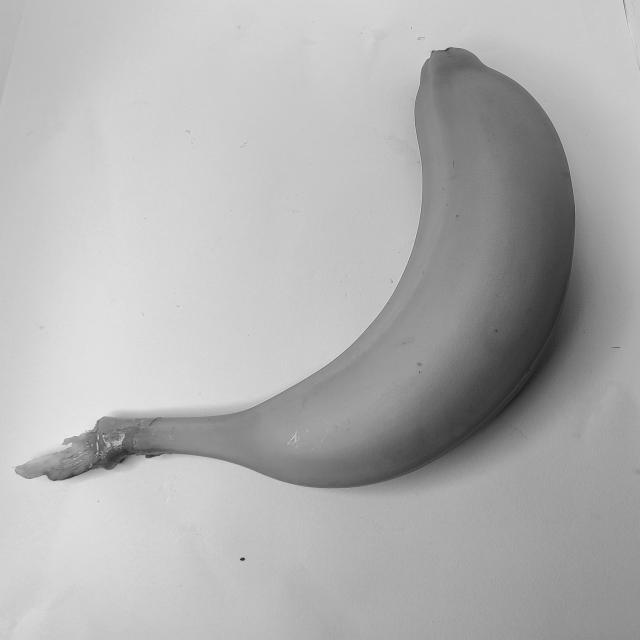Raw: (6, 10, 608, 525)
